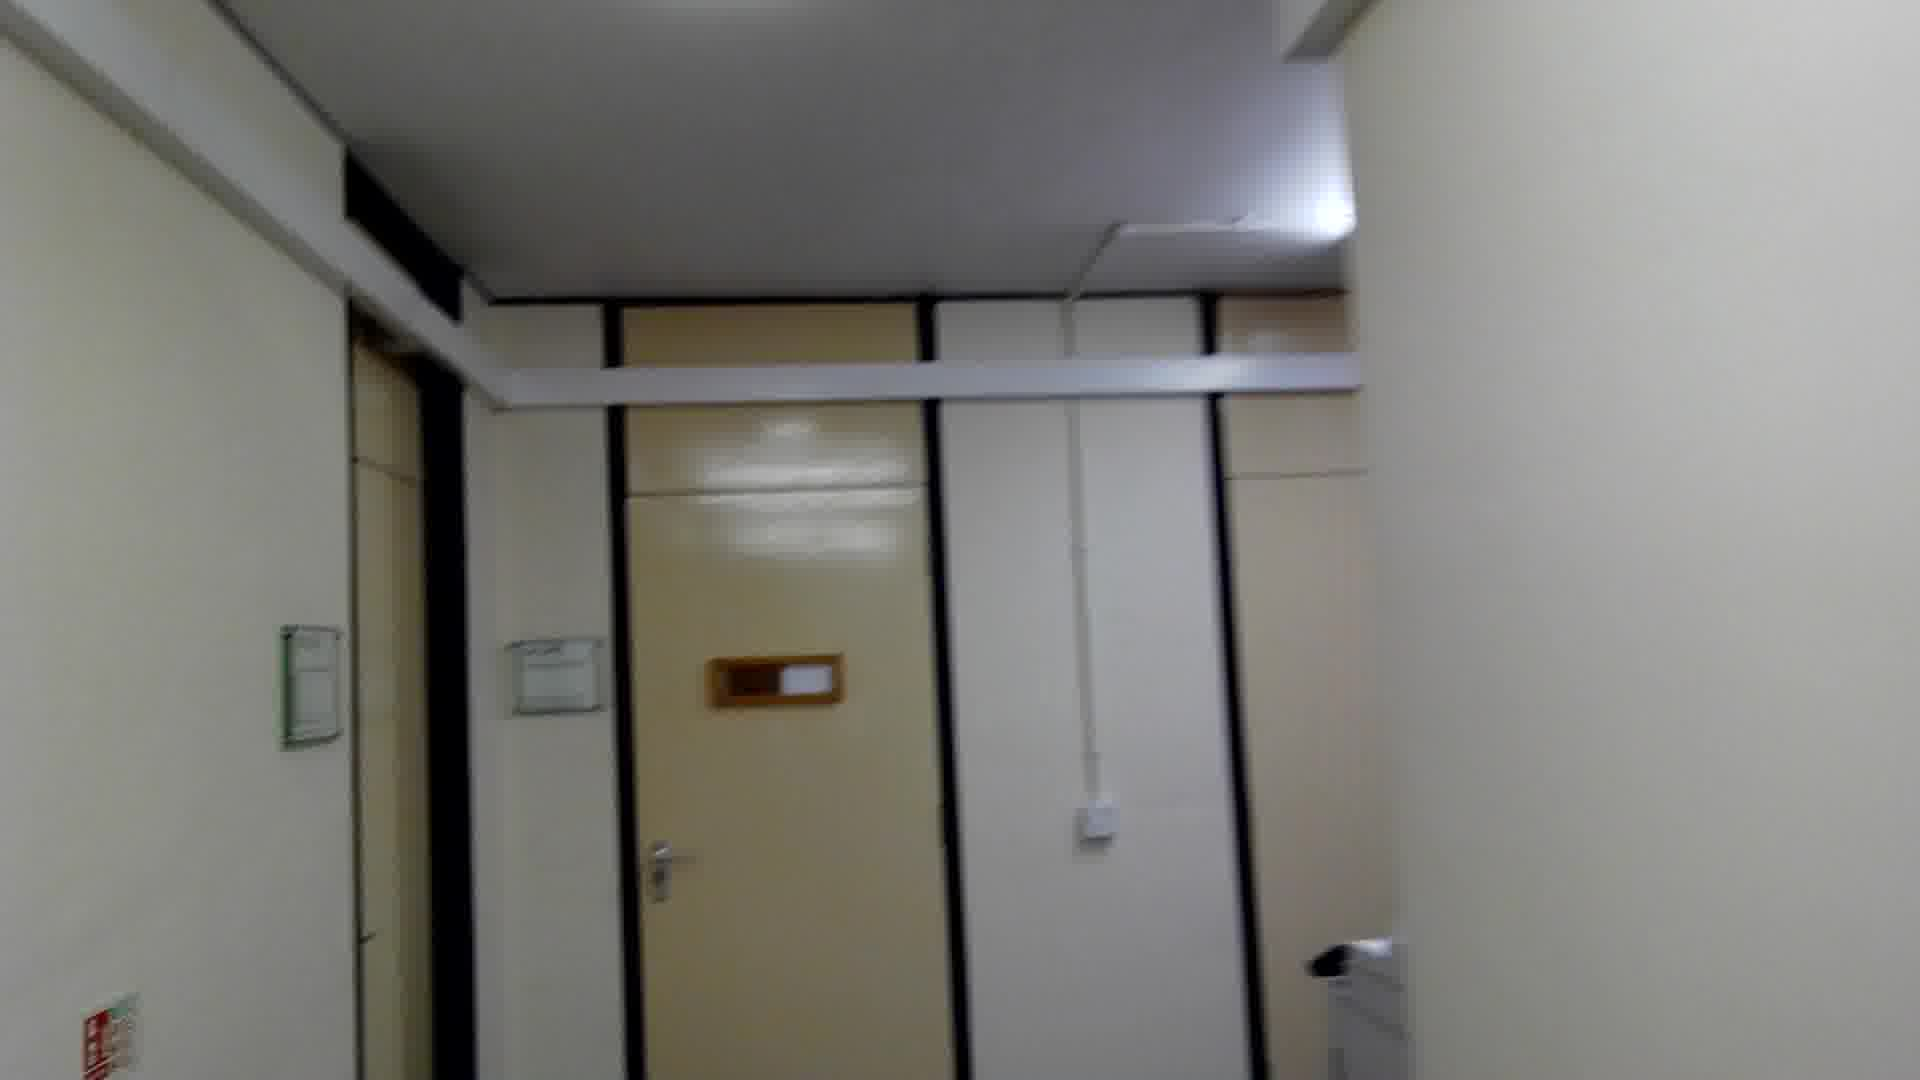Door: (601, 282, 988, 1080), (328, 138, 497, 1080)
